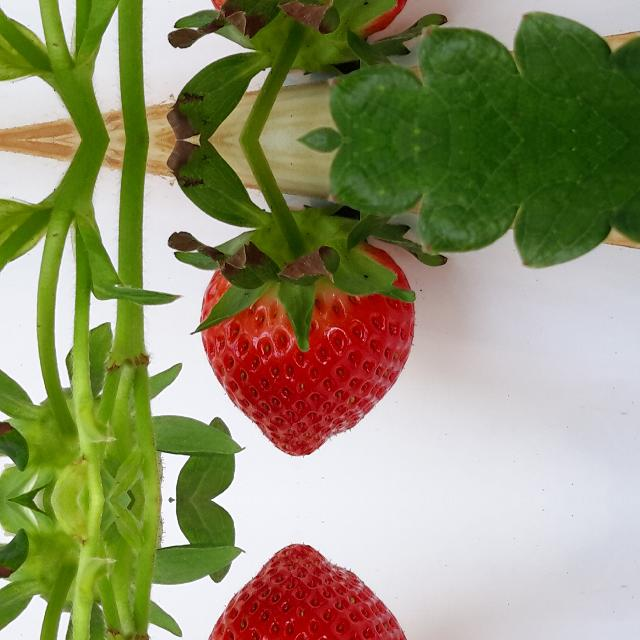Health_100: (198, 240, 416, 456), (198, 544, 415, 640)
